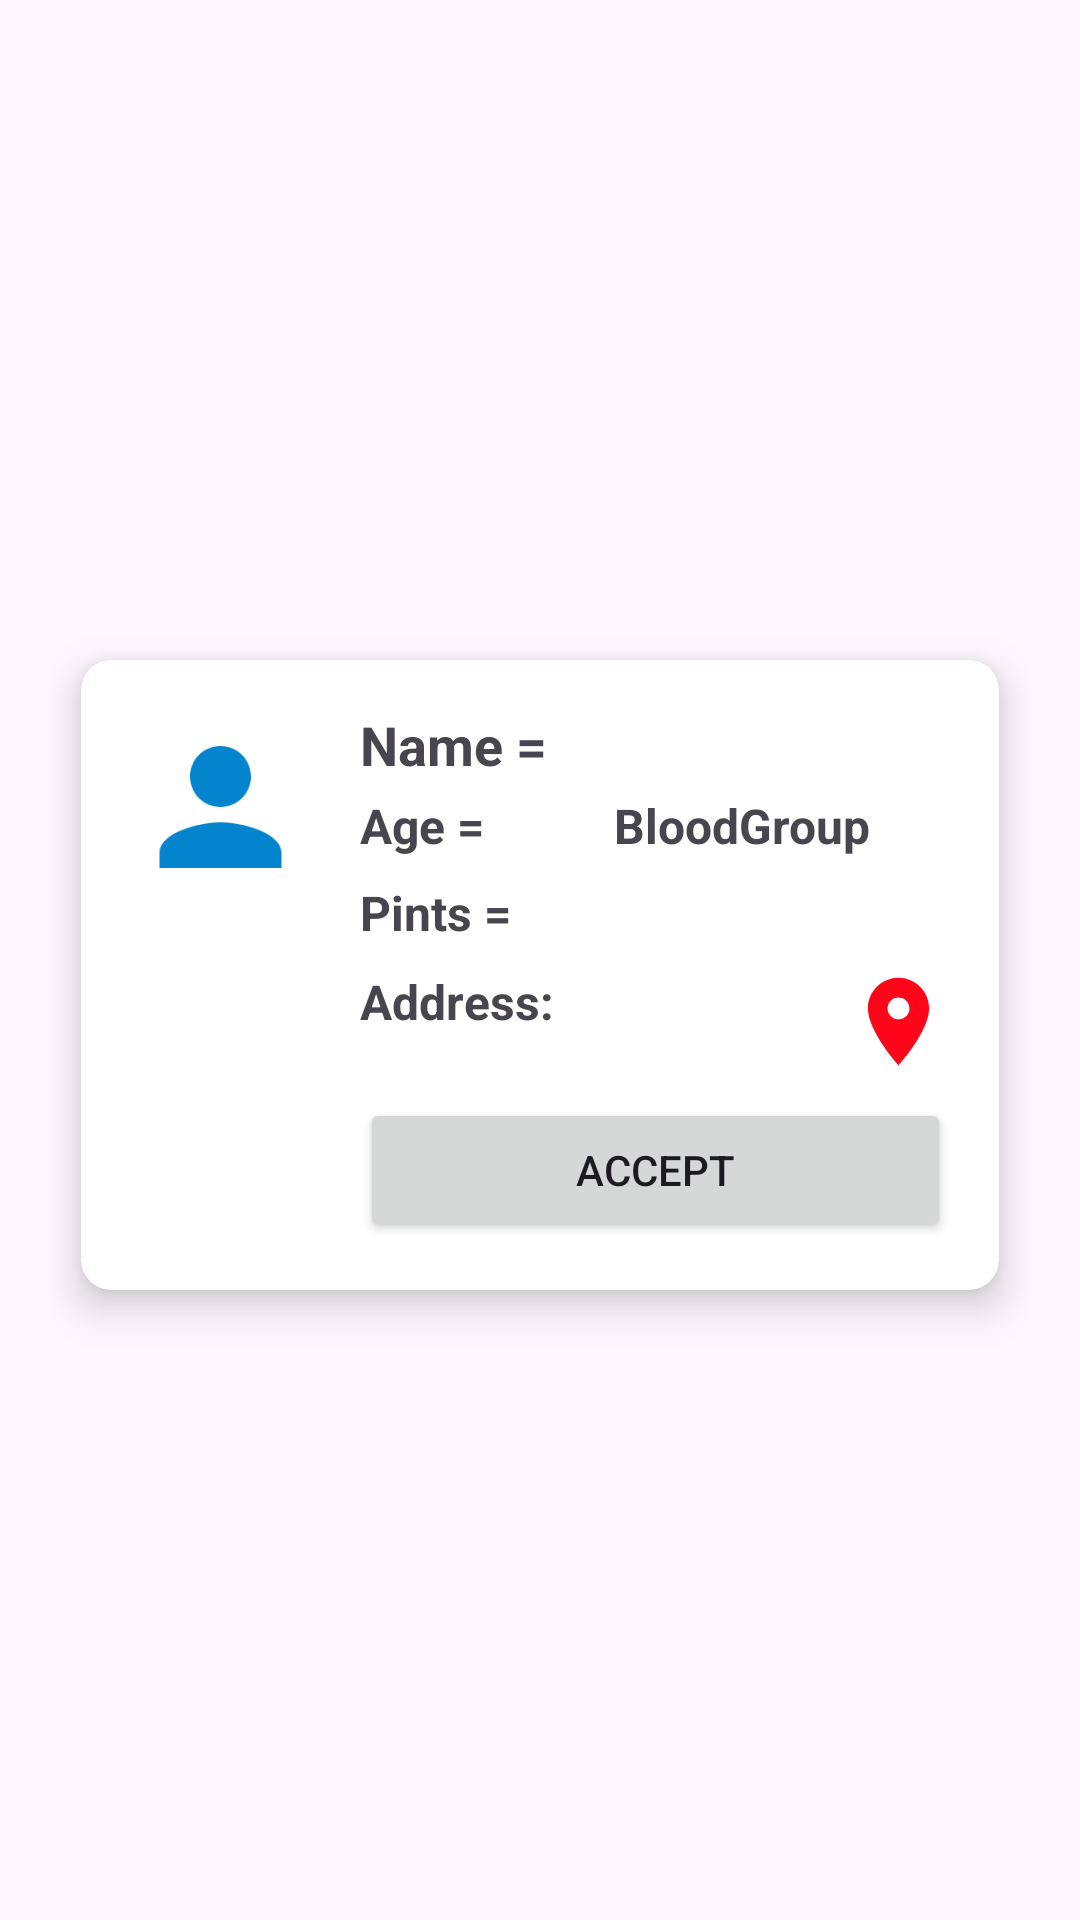

Named icons in this screenshot (1080 x 1920) and their centers, (x,y):
location on: (898,1021)
person: (220,807)
